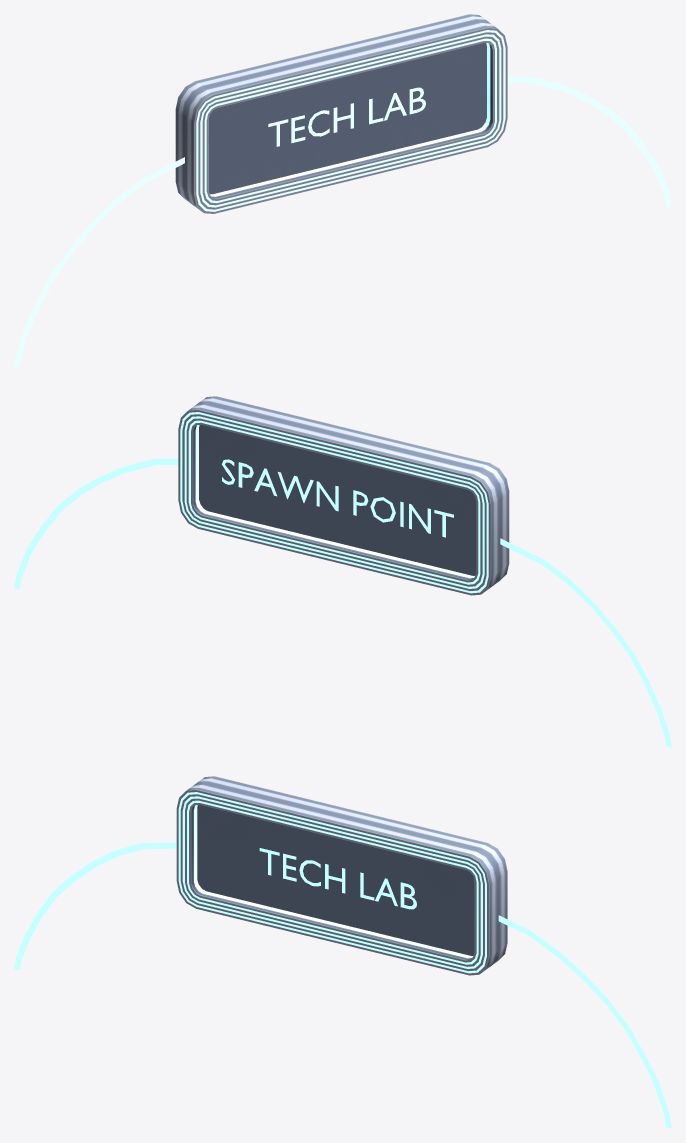
File: obj_sign03.gltf
3 renders of one model, top to bottom at view 1: azimuth 30°, elevation 25°; view 2: azimuth 150°, elevation 25°; view 3: azimuth 330°, elevation 25°, orthographic.
Visible parts, largest first — view 1: obj_sign03; view 2: obj_sign03; view 3: obj_sign03.
Boxes of the visible parts, box(x1,y1,x2,y2) form: obj_sign03: box(14, 14, 671, 367); obj_sign03: box(14, 396, 671, 747); obj_sign03: box(14, 776, 671, 1128).
Size of what is drawn, in the model's own units: 8.97 by 3.03 by 0.439.
Materials: 2 (1 with a texture image).
